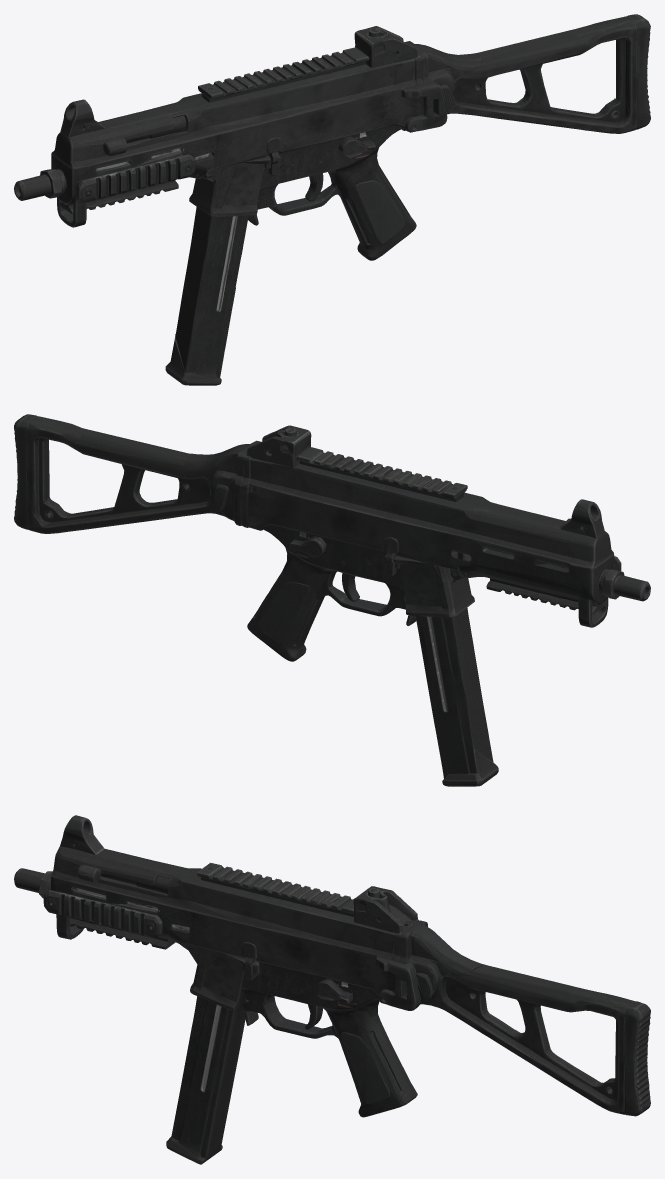
The model's file is ump45.glb.
3 renders of one model, top to bottom at view 1: azimuth 30°, elevation 25°; view 2: azimuth 150°, elevation 25°; view 3: azimuth 330°, elevation 25°, orthographic.
Visible parts, largest first — view 1: Mesh_0; view 2: Mesh_0; view 3: Mesh_0.
Boxes of the visible parts, <box> form: Mesh_0: <box>14,14,650,385</box>; Mesh_0: <box>14,414,650,786</box>; Mesh_0: <box>14,815,650,1164</box>.
Size of the model in its own units: 1.9 by 0.8947 by 0.172.
Materials: 1 (1 with a texture image).
